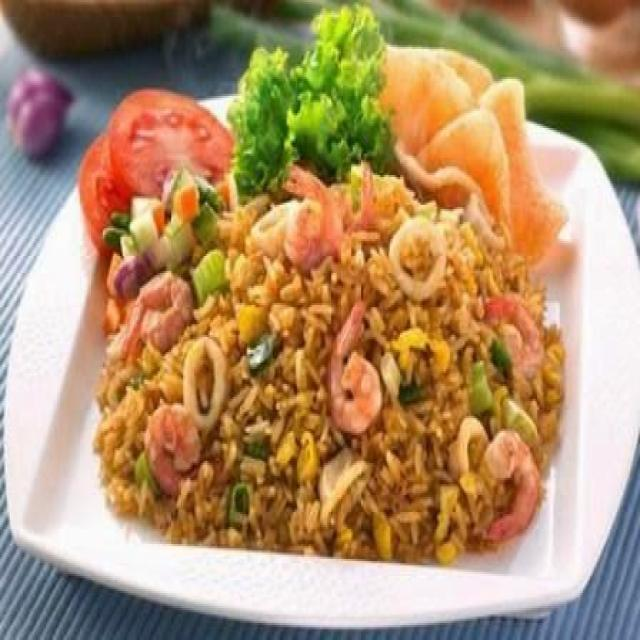Nasi Goreng: (94, 180, 551, 546)
